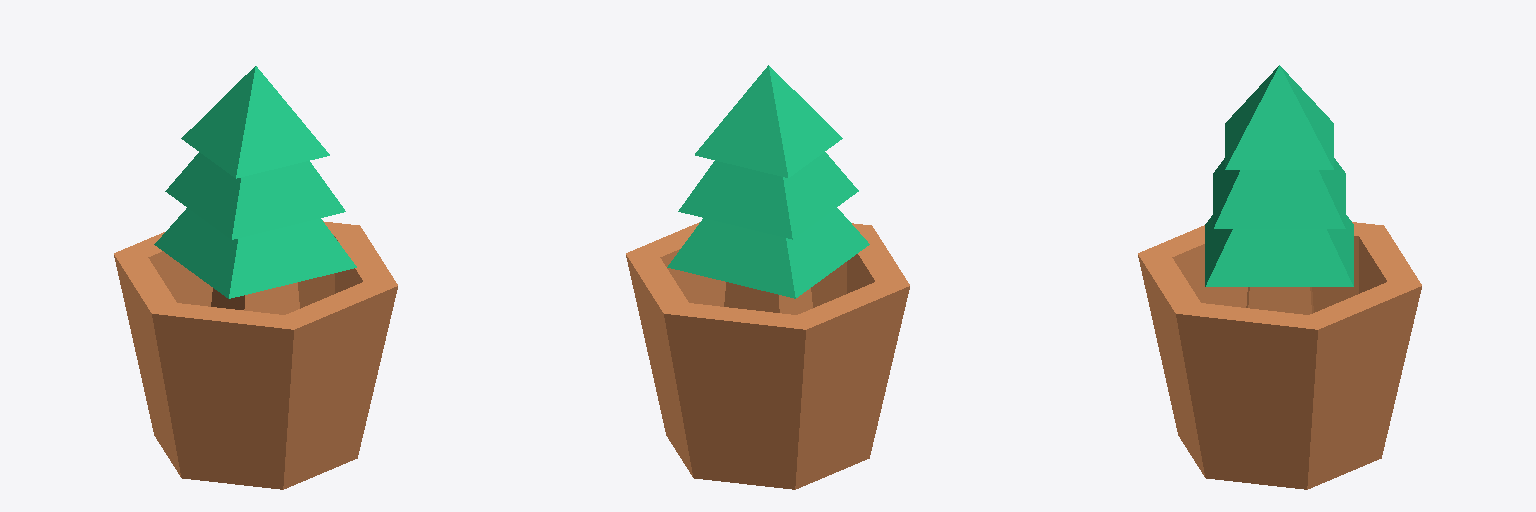
File: plantSmall1.obj
3 views of the same model, side by side, from view 1: azimuth 30°, elevation 25°; view 2: azimuth 150°, elevation 25°; view 3: azimuth 270°, elevation 25° (orthographic).
Visible parts, largest first — view 1: plantSmall1; view 2: plantSmall1; view 3: plantSmall1.
Boxes of the visible parts, box(x1,y1,x2,y2) form: plantSmall1: box(114, 66, 397, 489); plantSmall1: box(626, 65, 909, 489); plantSmall1: box(1138, 65, 1421, 489).
Size of the model in its own units: 0.0947 by 0.14 by 0.0947.